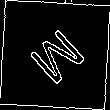M_SE: (21, 21, 89, 89)
